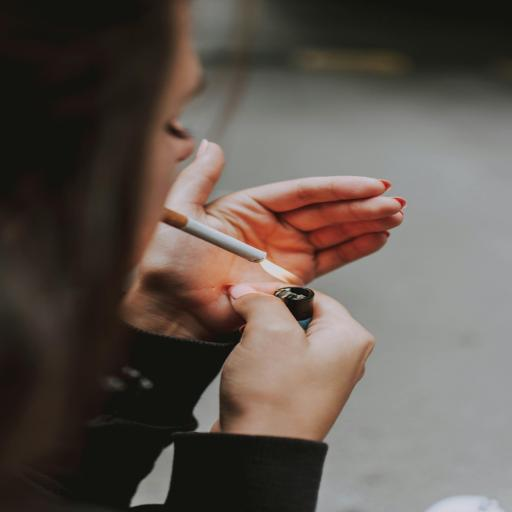lighter: (219, 242, 343, 347)
